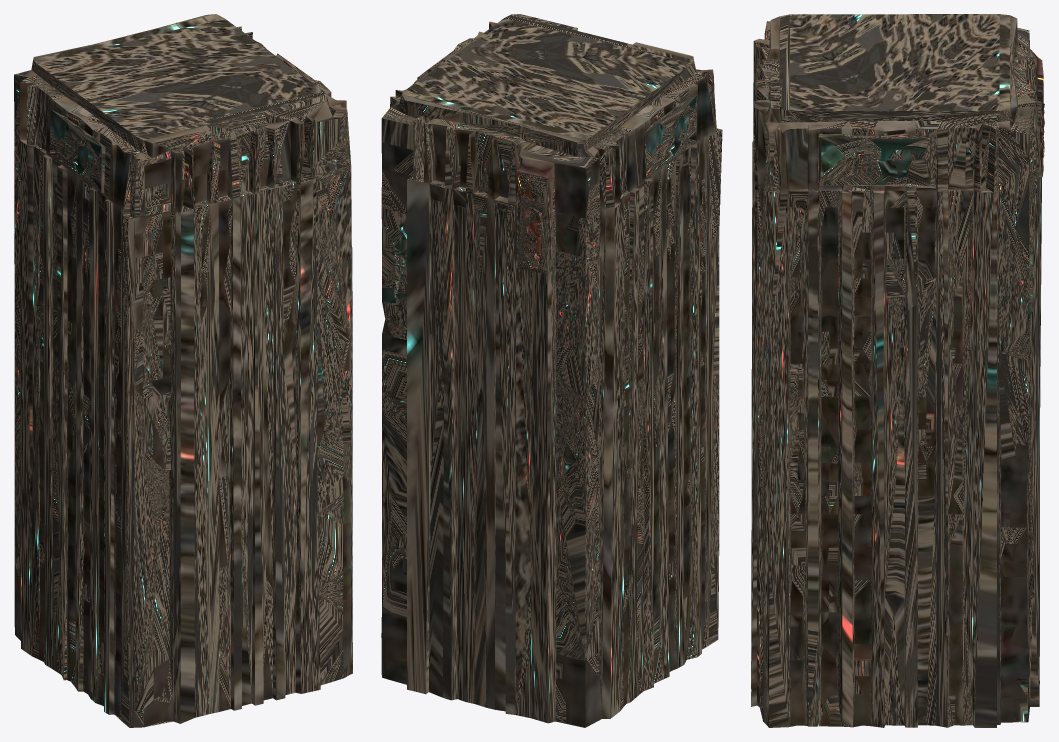
The model's file is b03_far.glb.
3 views of the same model, side by side, from view 1: azimuth 30°, elevation 25°; view 2: azimuth 150°, elevation 25°; view 3: azimuth 270°, elevation 25° (orthographic). The views are drawn at different scales.
Parts seen in each view (by area): view 1: b03_far; view 2: b03_far; view 3: b03_far.
Part boxes in pixels (x1,y1,x2,y2): b03_far: (14, 14, 352, 727); b03_far: (381, 14, 722, 727); b03_far: (751, 14, 1044, 727).
Size of the model in its own units: 26.83 by 64 by 27.99.
1 material, 1 textured.
